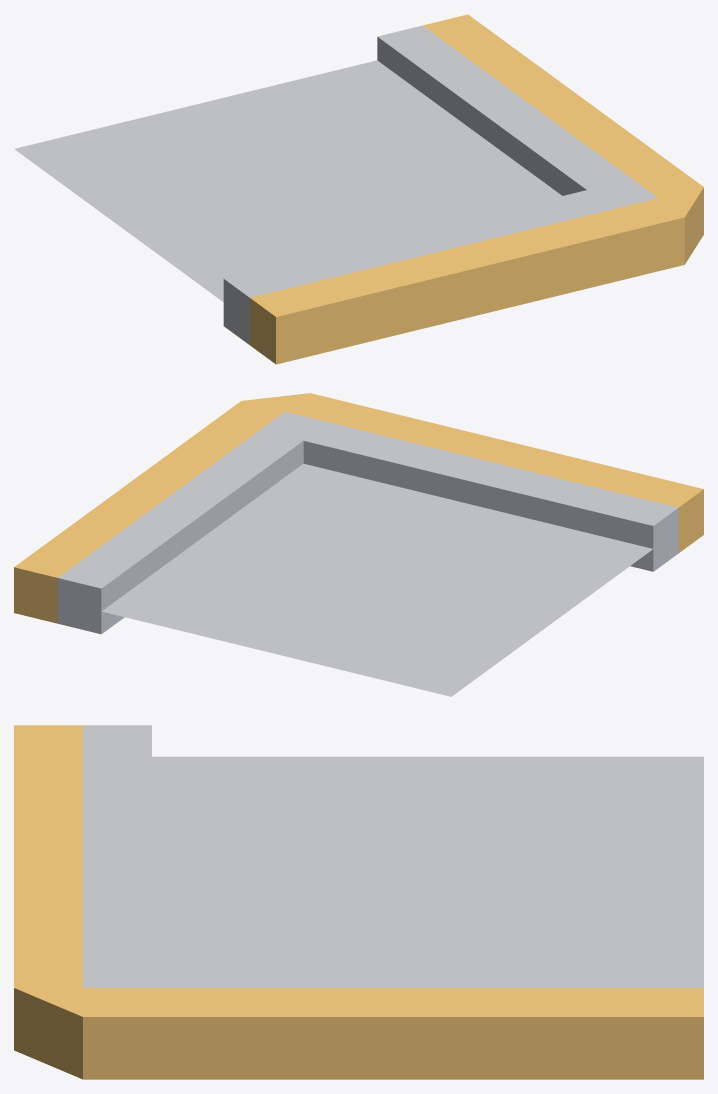
The model's file is platform_cornerOpen.glb.
The picture shows the model from 3 angles, top to bottom: view 1: azimuth 30°, elevation 25°; view 2: azimuth 150°, elevation 25°; view 3: azimuth 270°, elevation 25°; orthographic projection. The views are drawn at different scales.
Parts seen in each view (by area): view 1: platform_cornerOpen; view 2: platform_cornerOpen; view 3: platform_cornerOpen.
Boxes of the visible parts, left/top/right/bottom form: platform_cornerOpen: left=14, top=14, right=703, bottom=364; platform_cornerOpen: left=14, top=393, right=703, bottom=696; platform_cornerOpen: left=14, top=725, right=703, bottom=1079.
Bounding box in the file's own units: 1.4 × 0.1404 × 1.4.
